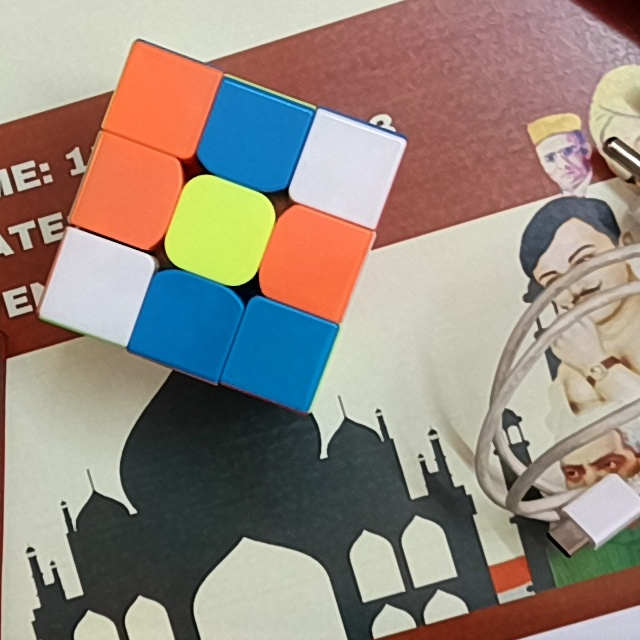tile: (245, 318, 314, 390), (311, 135, 381, 205), (217, 100, 285, 171), (96, 156, 164, 227), (62, 254, 133, 322), (185, 194, 253, 264), (151, 289, 223, 355), (278, 227, 347, 294), (128, 66, 198, 132)
